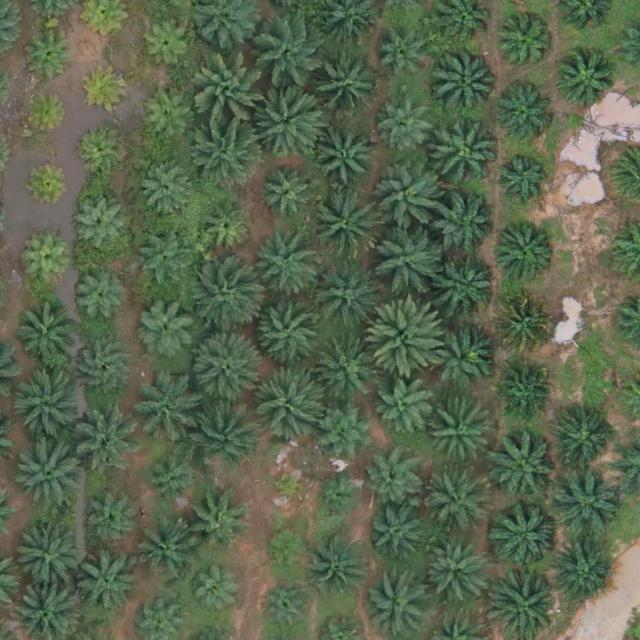Healthy: (369, 299, 447, 378), (551, 465, 622, 536), (489, 430, 560, 501), (370, 223, 441, 294), (309, 190, 380, 261), (10, 438, 81, 509), (429, 117, 500, 188), (312, 260, 382, 331), (189, 333, 260, 403), (189, 397, 259, 468), (71, 400, 141, 471), (9, 519, 79, 590), (12, 373, 82, 444), (433, 46, 503, 117), (309, 54, 379, 125), (254, 85, 324, 156), (197, 59, 267, 130), (375, 164, 445, 235), (492, 500, 562, 570), (491, 570, 561, 640), (249, 233, 319, 303), (254, 295, 324, 365), (252, 369, 322, 439), (188, 265, 258, 335), (257, 20, 327, 90), (194, 119, 264, 189), (550, 541, 613, 604), (495, 219, 558, 282), (434, 197, 497, 260), (437, 256, 500, 319), (425, 474, 488, 537), (314, 336, 377, 399), (315, 399, 378, 462), (185, 492, 248, 555), (75, 553, 138, 616), (428, 322, 490, 385), (429, 404, 491, 467), (423, 541, 485, 604), (367, 574, 430, 636), (132, 523, 194, 586), (132, 380, 194, 443), (72, 339, 135, 401), (15, 303, 77, 366), (555, 50, 617, 113), (316, 126, 378, 189), (310, 533, 372, 596), (136, 296, 198, 358), (494, 85, 556, 147), (558, 414, 613, 469), (366, 454, 421, 509), (367, 508, 422, 563), (262, 580, 317, 635), (199, 202, 254, 257), (145, 453, 200, 508), (71, 198, 126, 253), (85, 496, 140, 551), (499, 19, 554, 74), (494, 152, 549, 207), (377, 36, 432, 91), (380, 101, 435, 156), (261, 168, 316, 223), (138, 15, 193, 70), (141, 92, 196, 147), (140, 160, 195, 215), (497, 364, 551, 419), (377, 379, 431, 434), (136, 233, 190, 288), (72, 270, 126, 325)
Small: (75, 126, 122, 174), (189, 569, 236, 617), (315, 474, 362, 522), (264, 528, 311, 576), (28, 30, 75, 77), (269, 467, 308, 506)
Yellow: (495, 296, 550, 351), (23, 238, 70, 286), (26, 159, 73, 207), (84, 66, 131, 114), (23, 91, 70, 138)
